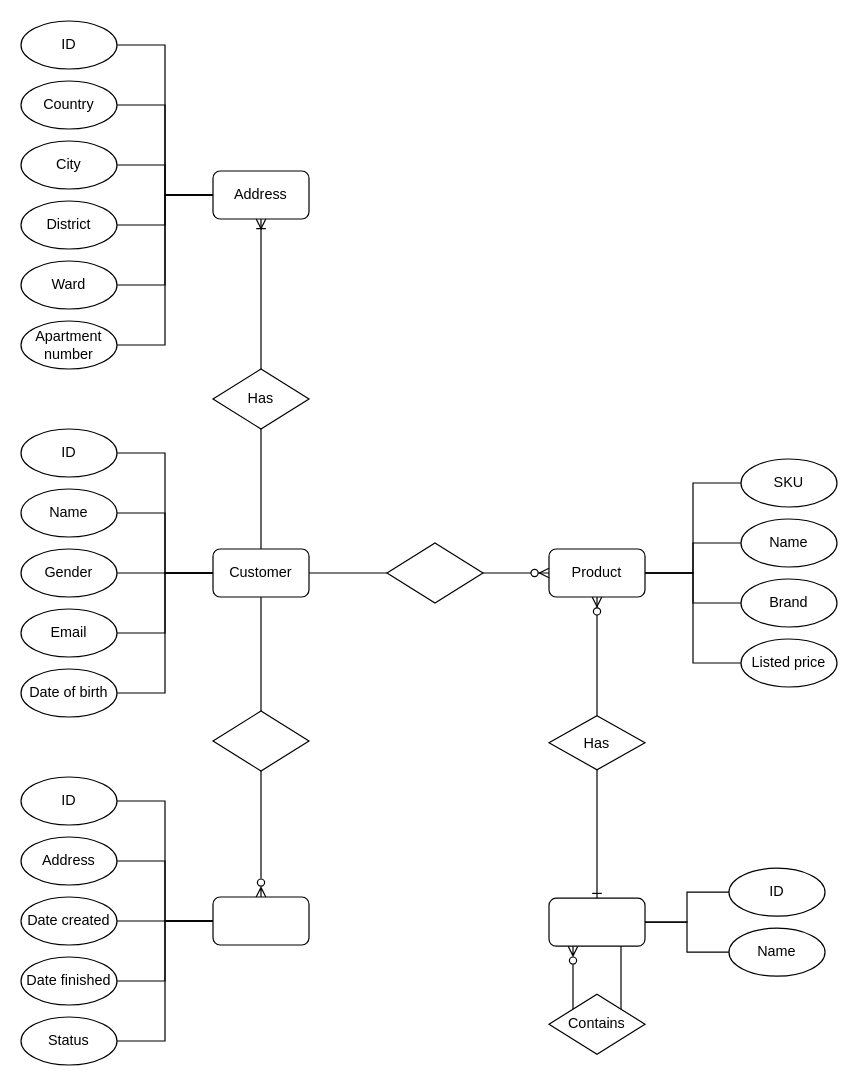
This 858x1086 diagram has some shape labels left out. The shapes that lost their labels are listed below. From the top down, each one's box as (x1, y1, x2, y2) in pixels, then its label:
(386, 542, 483, 603): Has in cart
(212, 710, 309, 771): Make
(212, 896, 309, 945): Order
(548, 897, 645, 946): Category
